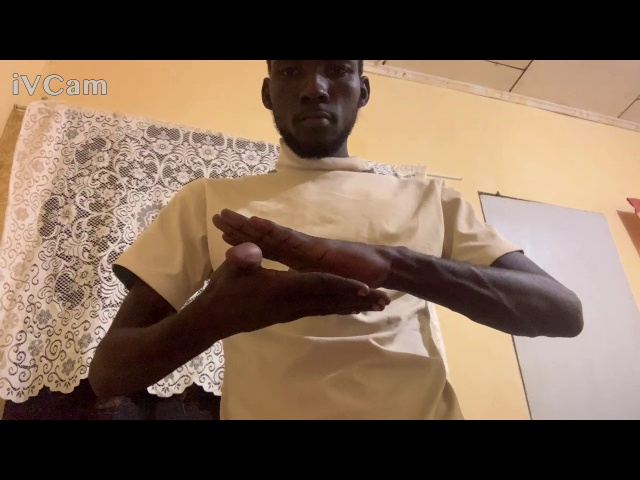pardon: (193, 207, 415, 340)
